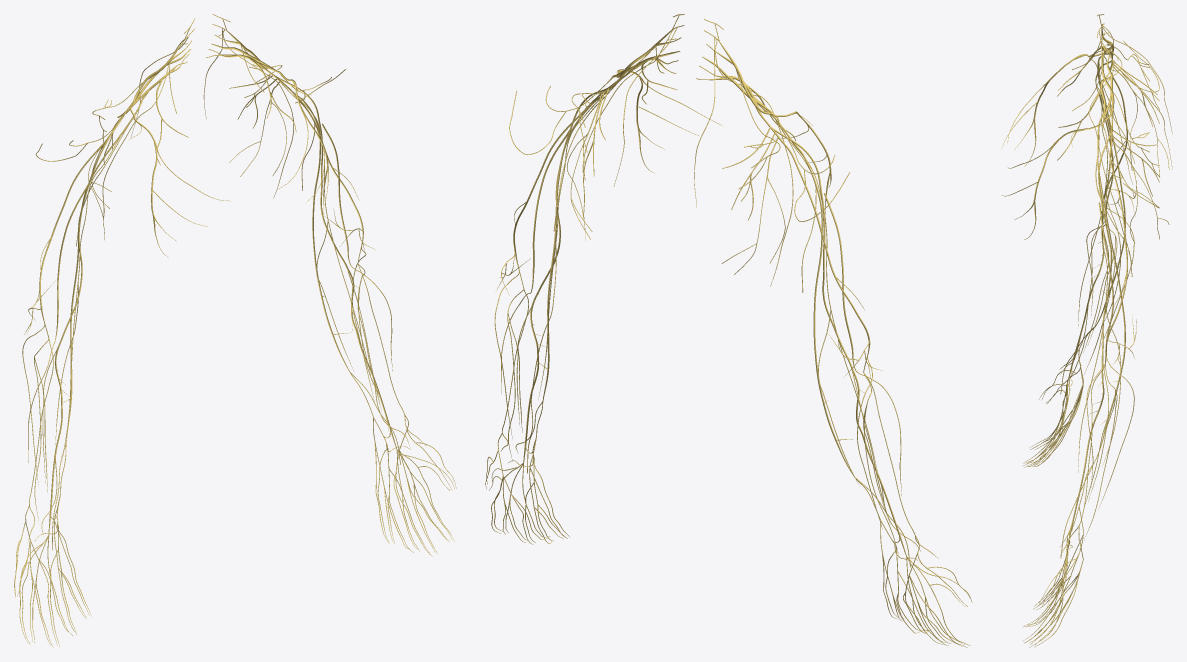
File: upper-limb-nerves.glb
The picture shows the model from 3 angles, left to right: view 1: azimuth 30°, elevation 25°; view 2: azimuth 150°, elevation 25°; view 3: azimuth 270°, elevation 25°; orthographic projection. The views are drawn at different scales.
Parts seen in each view (by area): view 1: ZA_median_nerve_r, ZA_median_nerve_l, ZA_dorsal_digital_branches_of_radial_nerve_l, ZA_ulnar_nerve_l, ZA_dorsal_digital_branches_of_radial_nerve_r, ZA_ulnar_nerve_r; view 2: ZA_median_nerve_r, ZA_ulnar_nerve_r, ZA_ulnar_nerve_l, ZA_median_nerve_l; view 3: ZA_median_nerve_l, ZA_ulnar_nerve_l, ZA_dorsal_digital_branches_of_radial_nerve_l, ZA_median_nerve_r, ZA_ulnar_nerve_r, ZA_lateral_pectoral_nerve_r, ZA_lateral_pectoral_nerve_l, ZA_proper_palmar_digital_branches_of_median_nerve_l, ZA_radial_nerve_l, ZA_dorsal_digital_branches_of_radial_nerve_r, ZA_superficial_branch_of_radial_nerve_l, ZA_proper_palmar_digital_branches_of_median_nerve_r (+2 smaller).
Boxes of the visible parts, bbox=[...] form: ZA_median_nerve_r: bbox=[48, 111, 126, 534]; ZA_median_nerve_l: bbox=[276, 76, 396, 449]; ZA_dorsal_digital_branches_of_radial_nerve_l: bbox=[393, 442, 456, 554]; ZA_ulnar_nerve_l: bbox=[276, 76, 373, 417]; ZA_dorsal_digital_branches_of_radial_nerve_r: bbox=[14, 538, 70, 645]; ZA_ulnar_nerve_r: bbox=[60, 107, 138, 493]; ZA_median_nerve_r: bbox=[771, 127, 906, 556]; ZA_ulnar_nerve_r: bbox=[771, 114, 880, 520]; ZA_ulnar_nerve_l: bbox=[536, 76, 623, 436]; ZA_median_nerve_l: bbox=[523, 88, 606, 462]; ZA_median_nerve_l: bbox=[1067, 130, 1112, 546]; ZA_ulnar_nerve_l: bbox=[1078, 120, 1125, 506]; ZA_dorsal_digital_branches_of_radial_nerve_l: bbox=[1027, 559, 1083, 647]; ZA_median_nerve_r: bbox=[1067, 61, 1112, 382]; ZA_ulnar_nerve_r: bbox=[1079, 58, 1125, 359]; ZA_lateral_pectoral_nerve_r: bbox=[1001, 53, 1102, 166]; ZA_lateral_pectoral_nerve_l: bbox=[1001, 123, 1103, 239]; ZA_proper_palmar_digital_branches_of_median_nerve_l: bbox=[1022, 554, 1066, 647]; ZA_radial_nerve_l: bbox=[1105, 140, 1127, 366]; ZA_dorsal_digital_branches_of_radial_nerve_r: bbox=[1027, 370, 1083, 465]; ZA_superficial_branch_of_radial_nerve_l: bbox=[1060, 367, 1104, 559]; ZA_proper_palmar_digital_branches_of_median_nerve_r: bbox=[1023, 384, 1065, 465].
Bounding box in the file's own units: 0.6465 × 0.7778 × 0.2255.
